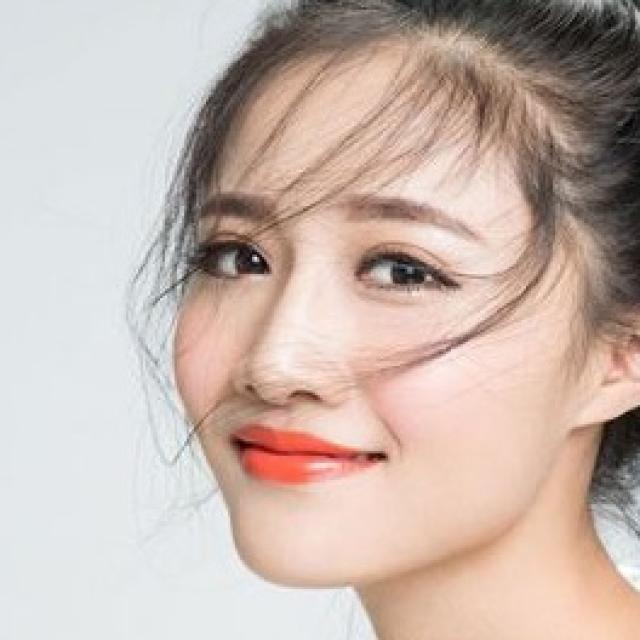Normal: (170, 44, 606, 587)
